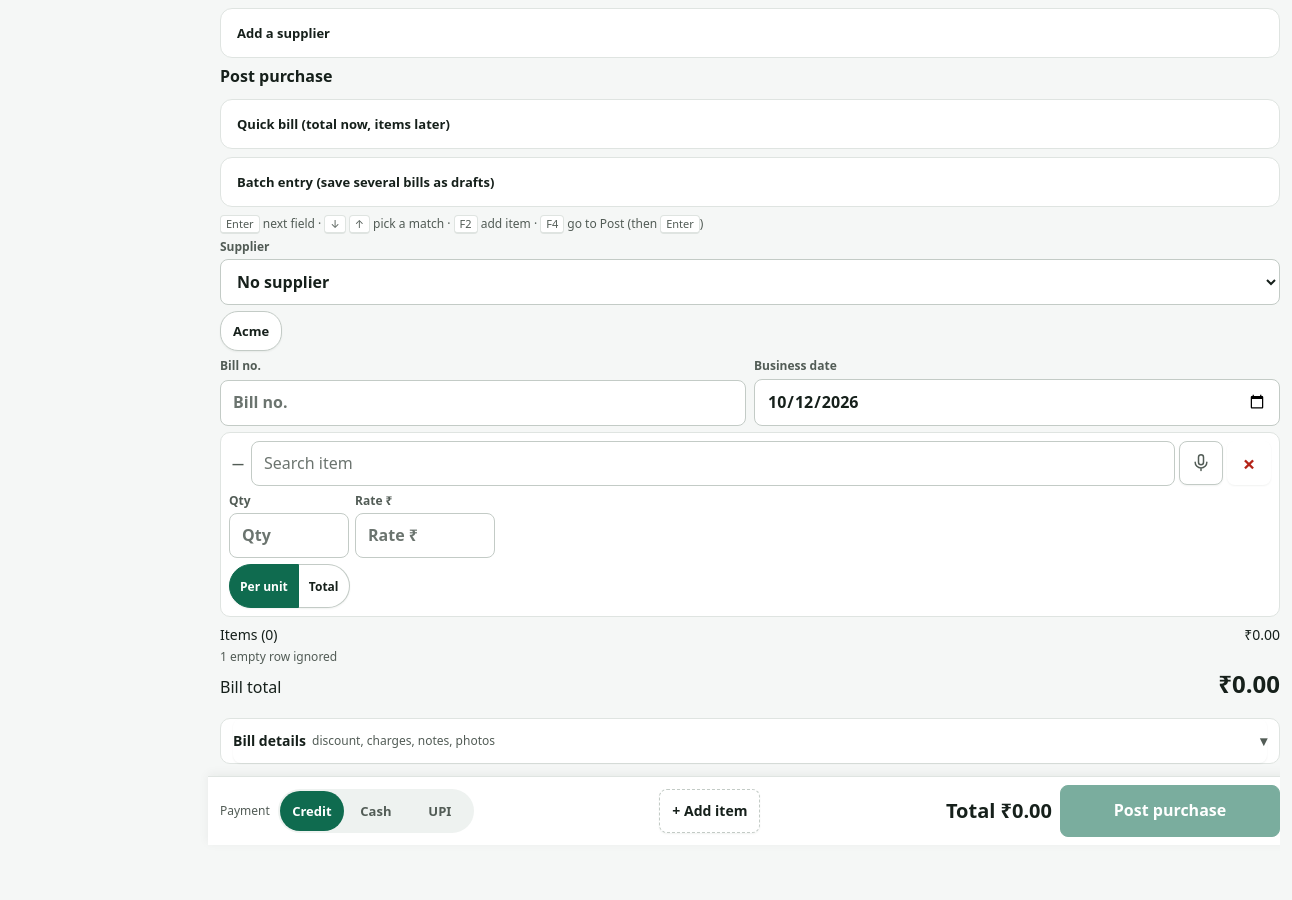
Test case: if the last bill's discount/GST cannot be read, repeat copies nothing and says why
Expected: the date field named "date" holds "2026-10-12", [754,378,1280,426]
Select "Acme" in the dropdown named "partyId" at (750, 282), box [220,259,1280,305]
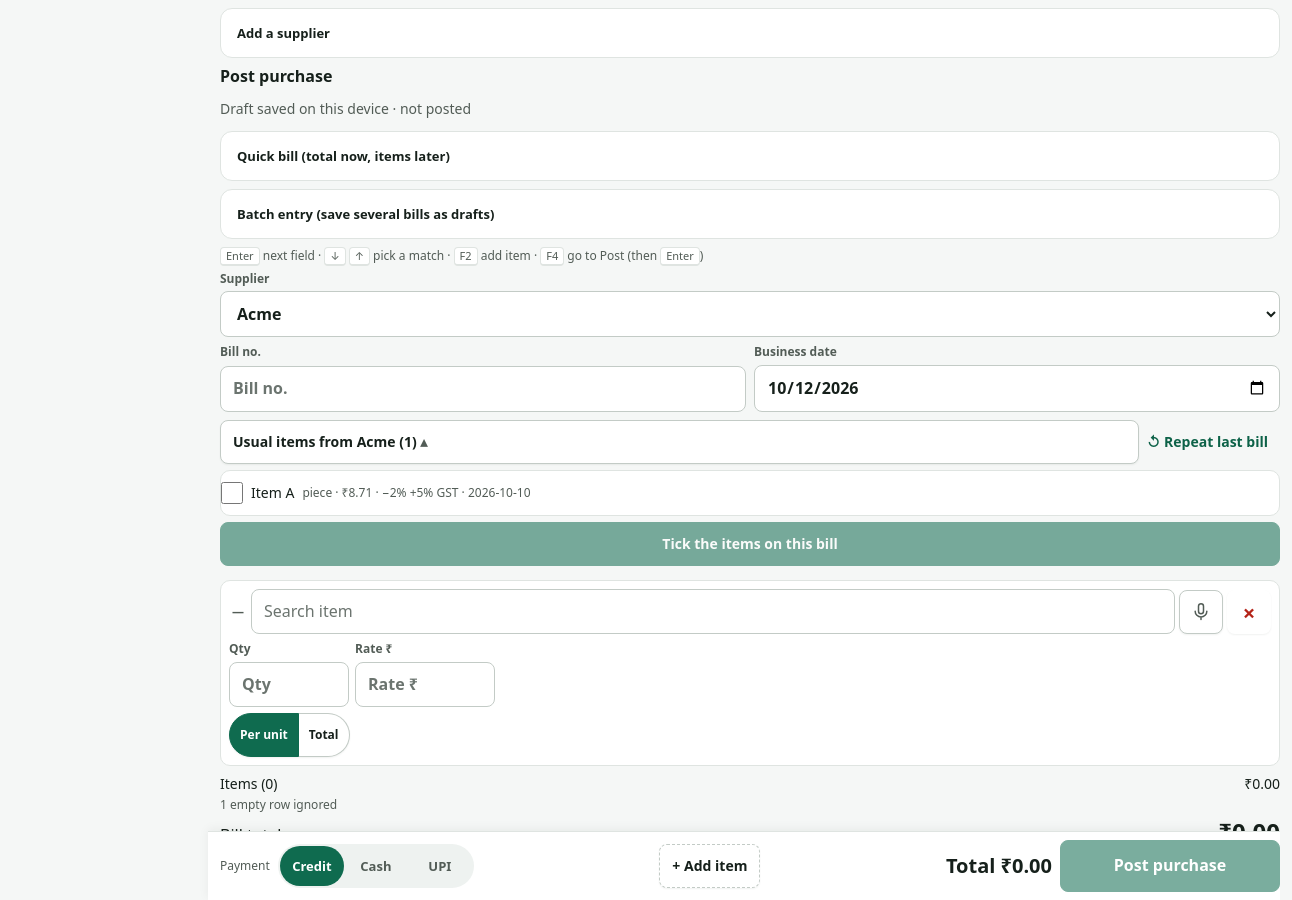
Now the text "↺ Repeat last bill" is shown
Click the button "↺ Repeat last bill" at (1214, 442), box [1147,420,1280,464]
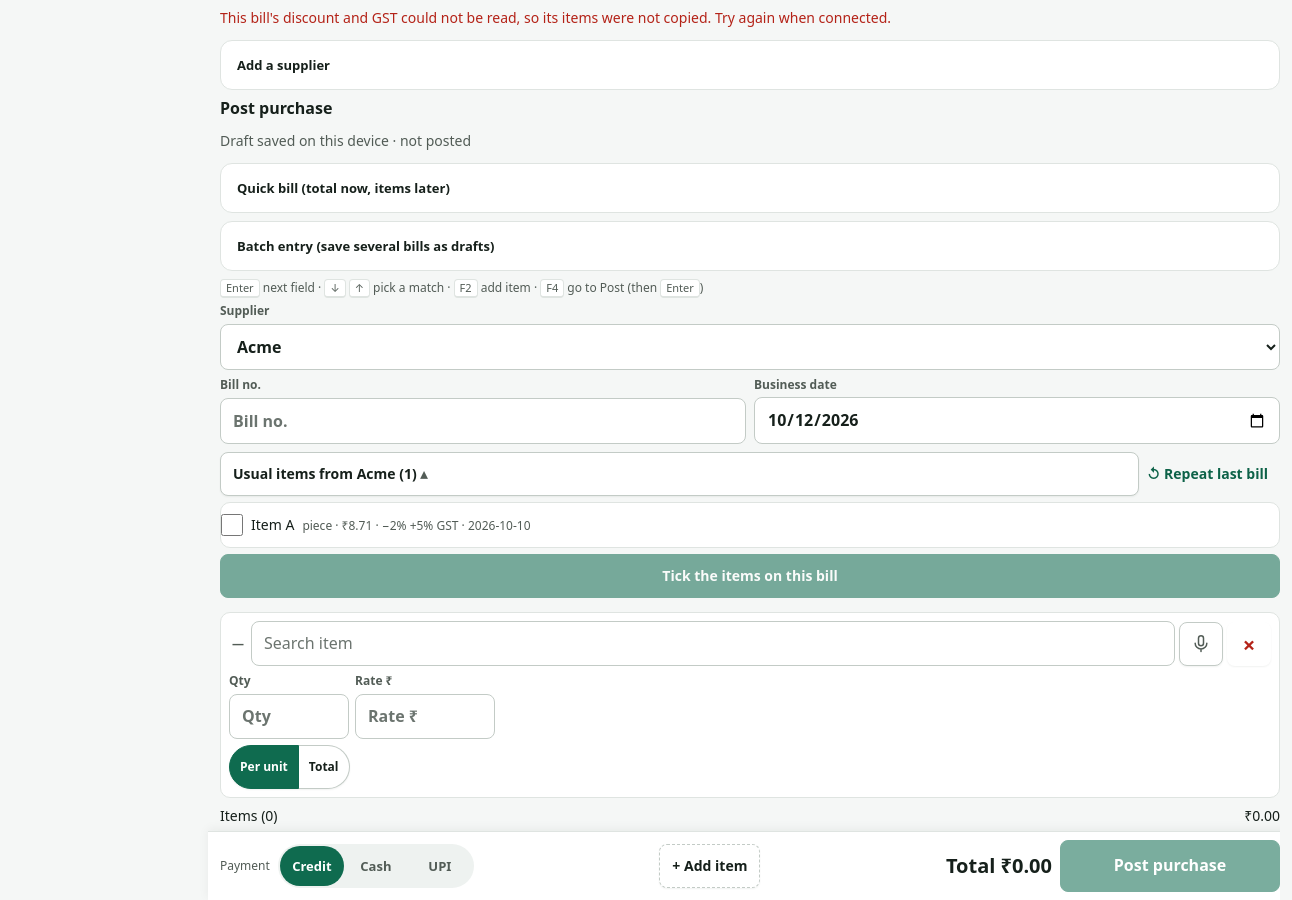
Now the text "could not be read, so its items were not copied" is shown, box [220,8,891,27]
